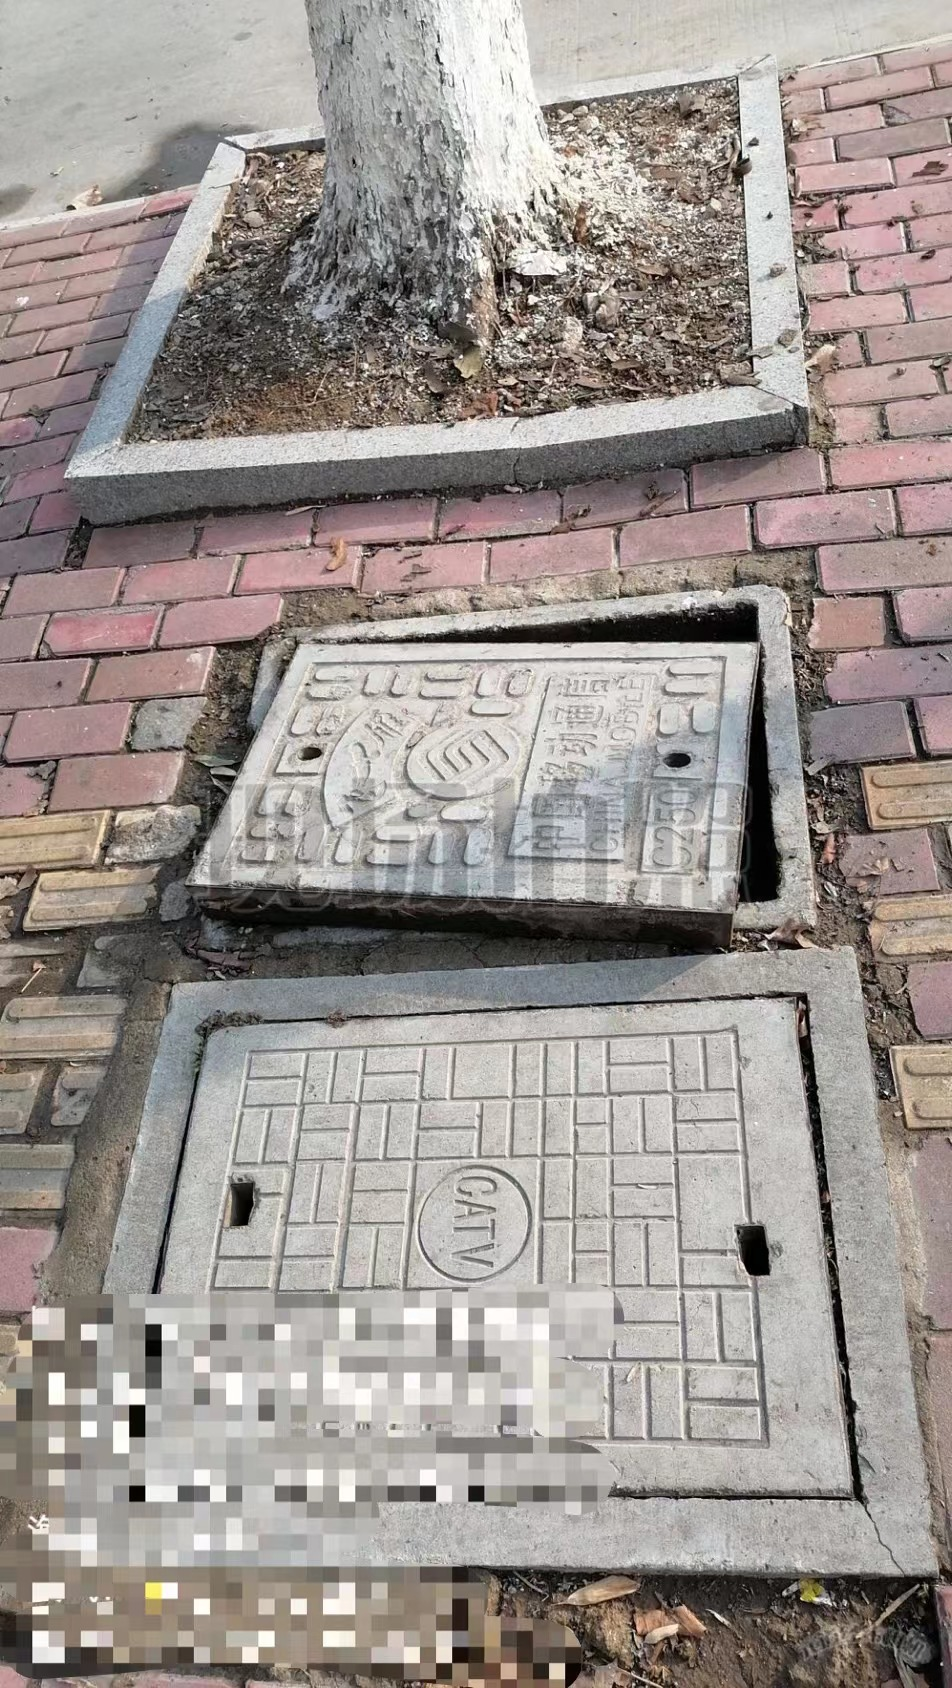well: (60, 582, 911, 1583), (166, 591, 829, 940)
